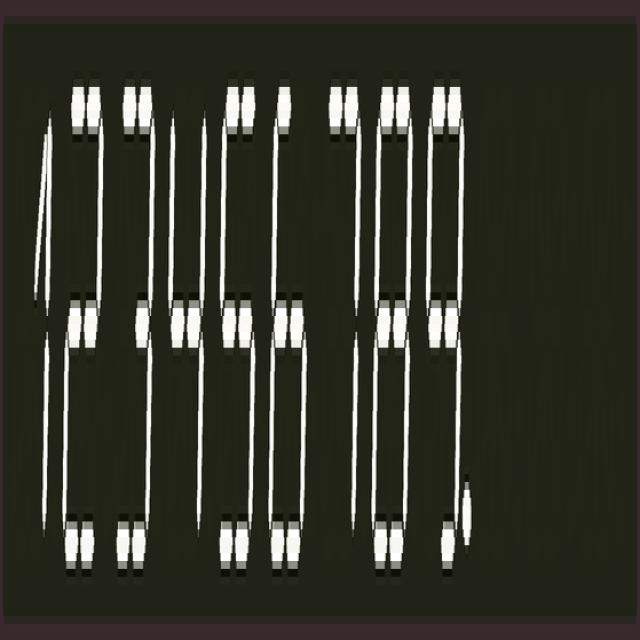.: (459, 474, 472, 559)
1: (31, 104, 54, 547)
2: (61, 60, 105, 604)
3: (114, 60, 156, 585)
4: (166, 98, 208, 556)
5: (214, 63, 257, 591)
6: (268, 63, 312, 585)
7: (326, 60, 363, 556)
8: (370, 76, 414, 578)
9: (425, 76, 466, 566)
